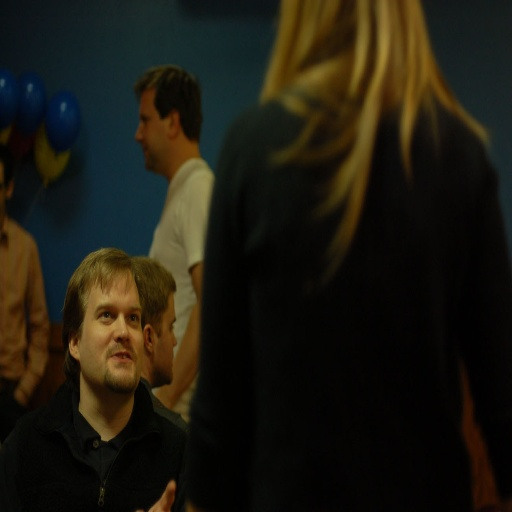hand: (147, 479, 176, 511)
